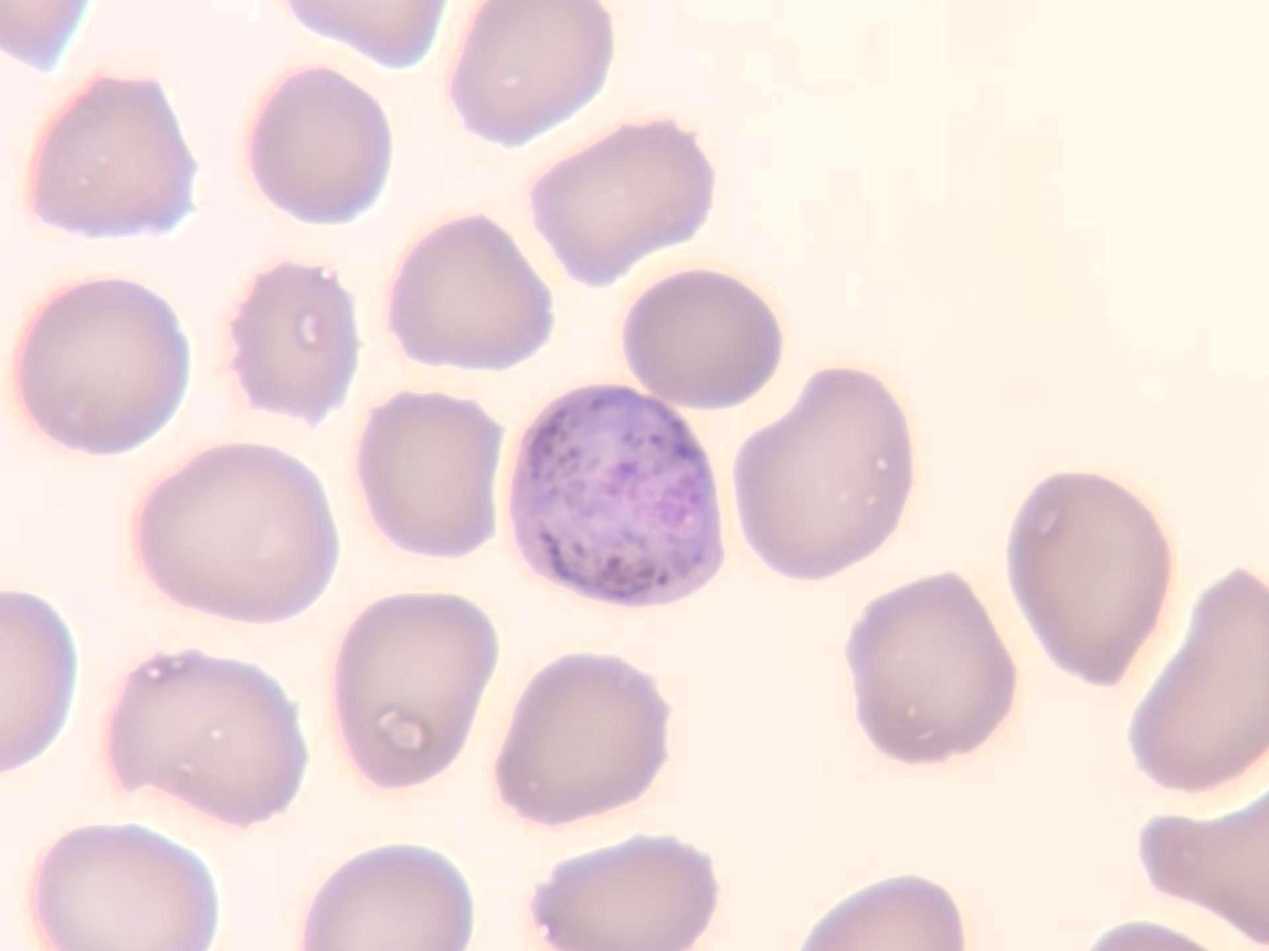Infected: (513, 380, 726, 614)
Uninfected: (729, 358, 912, 578), (132, 441, 339, 628), (104, 651, 305, 824), (1007, 466, 1154, 696), (339, 585, 498, 793), (531, 113, 714, 293), (850, 573, 1009, 769), (493, 648, 662, 827), (1132, 571, 1269, 790), (18, 283, 191, 452), (29, 73, 197, 239), (388, 219, 558, 381), (353, 386, 502, 567), (26, 820, 210, 951), (452, 0, 615, 146), (247, 65, 391, 223), (621, 265, 781, 403), (540, 833, 712, 951), (302, 838, 474, 951), (234, 261, 355, 417)
